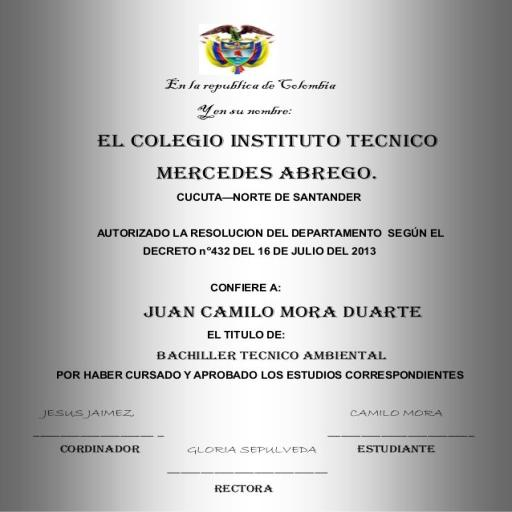diploma: (0, 0, 511, 507)
escudo: (178, 19, 291, 78)
institucion: (85, 124, 453, 191)
nombre: (111, 294, 440, 330)
